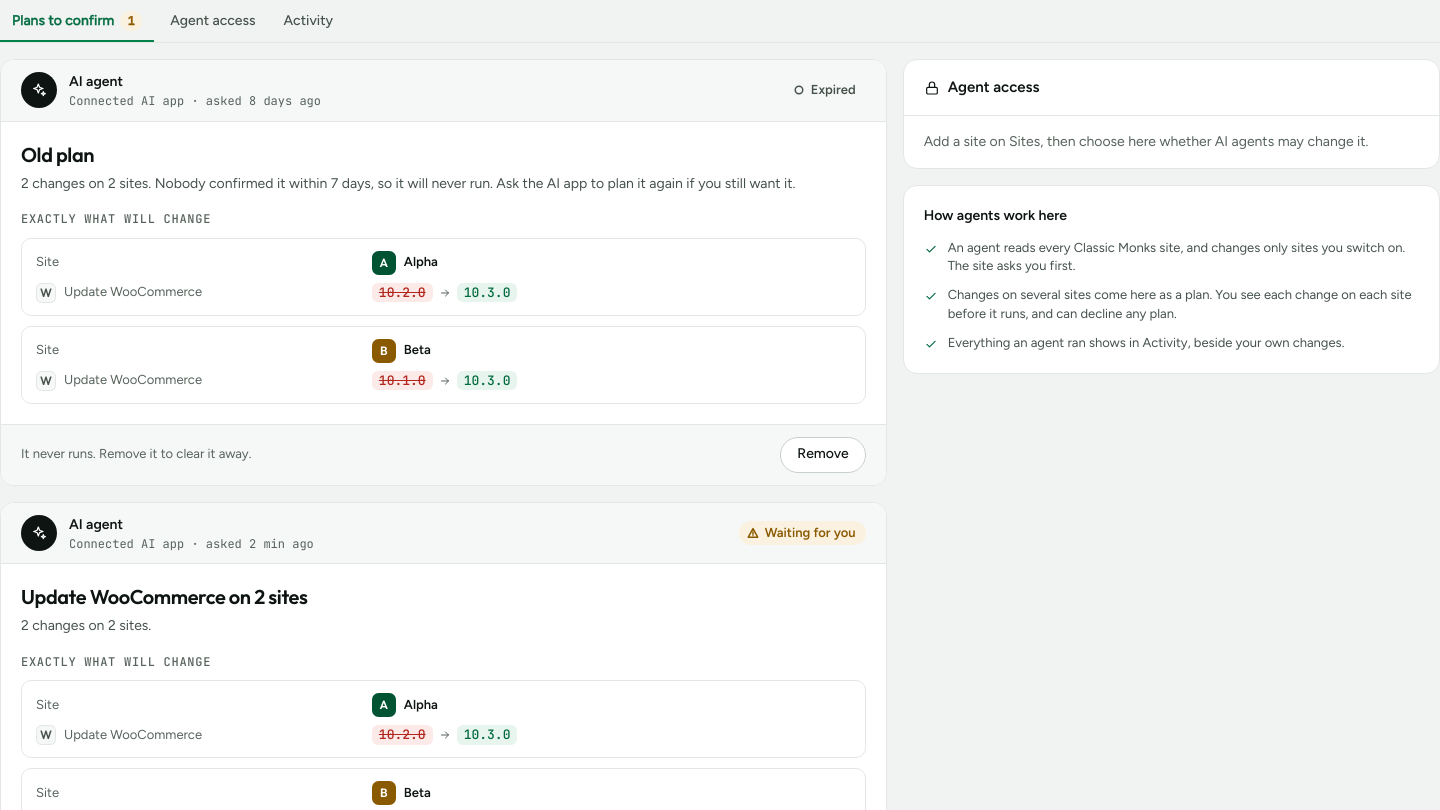
Test: an expired plan says it never runs and can only be removed
Expected: the tab "Plans to confirm 1" is shown, [0, 0, 154, 42]
Expected: the text "Expired" is shown, [785, 78, 866, 102]
Click the button with aria-label "Remove Old plan".
click(823, 455)  # box [780, 437, 866, 473]
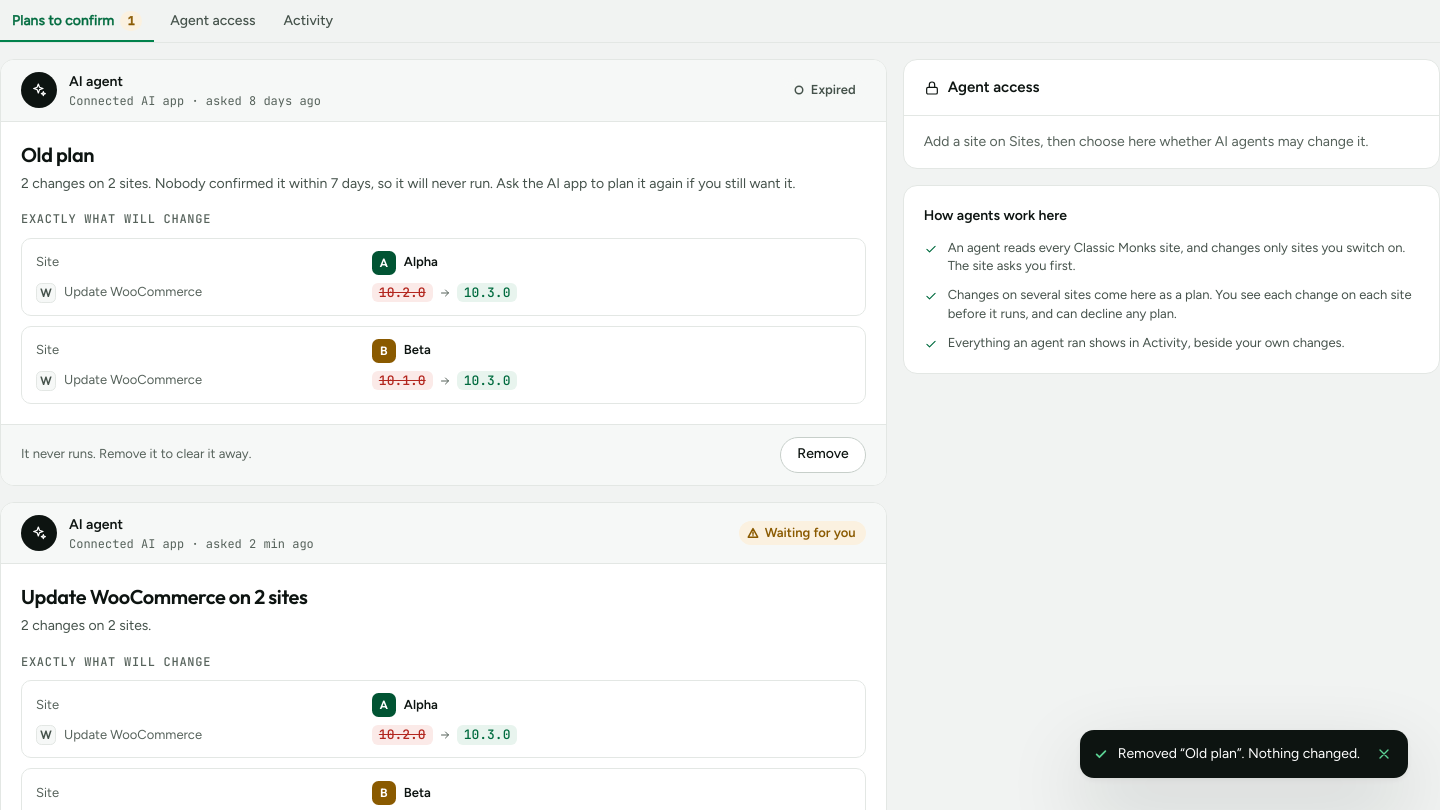
Expected: the text "Removed “Old plan”. Nothing changed." is shown, [1118, 744, 1360, 764]
